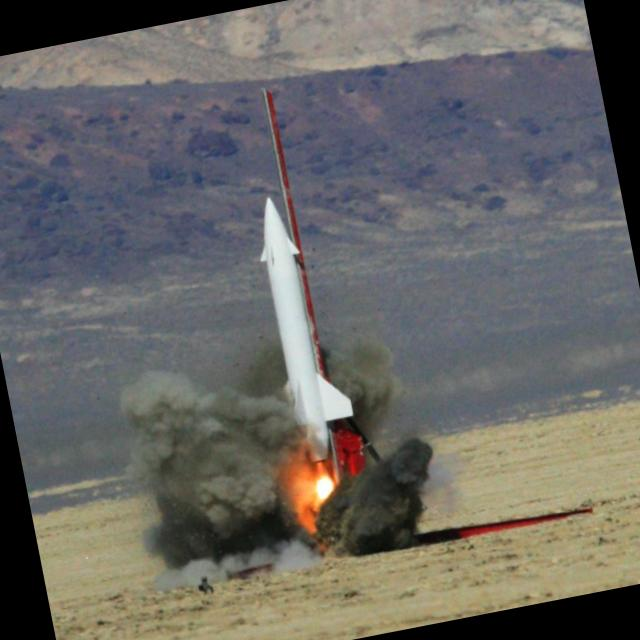rocket: (237, 190, 350, 512)
